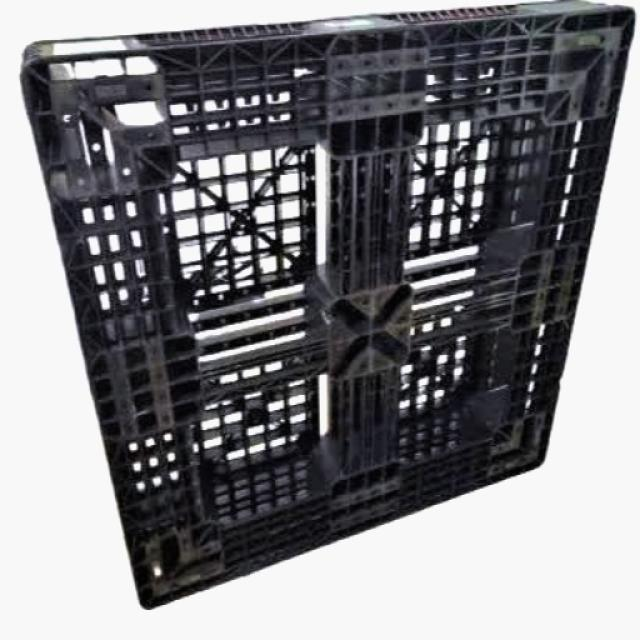non-igps: (16, 0, 637, 611)
